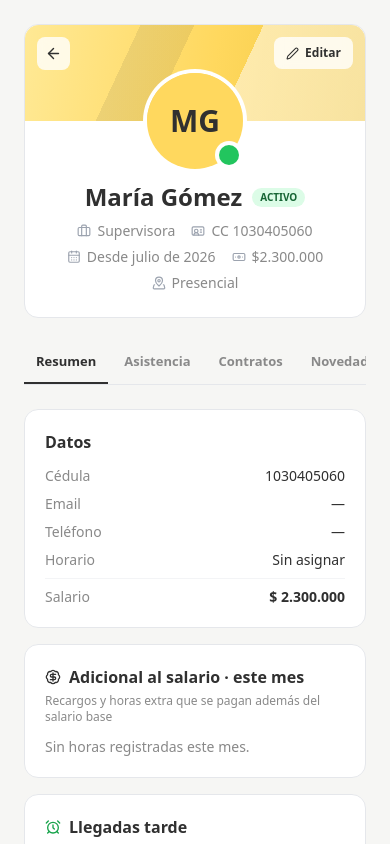
Test: guardar en «Editar datos» › si guarda bien, manda el PUT de la persona y la ventana se cierra
Click the button "Editar".
click(314, 53)  # box [274,37,353,69]
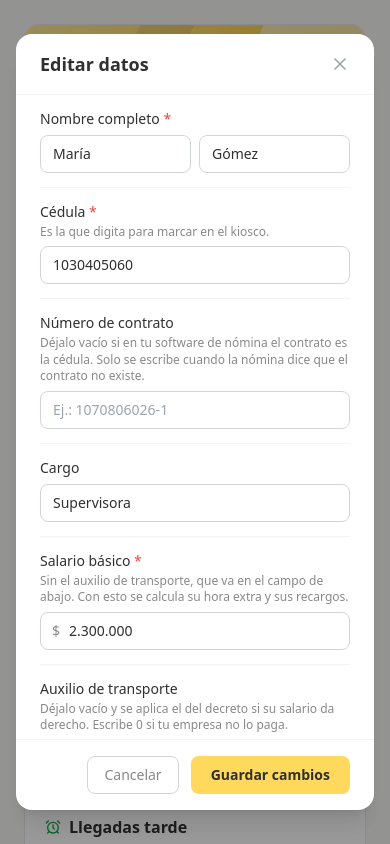
Now the heading "Editar datos" is shown, box [40,50,149,78]
Click the button "Guardar cambios".
click(270, 775)  # box [191,756,350,794]
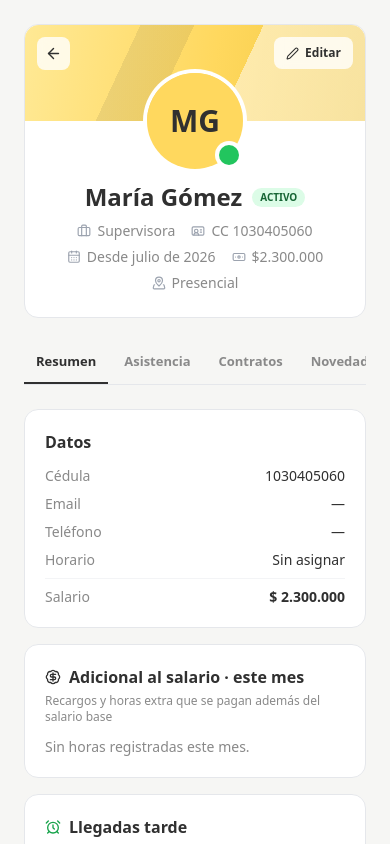
Now the heading "Editar datos" is gone
